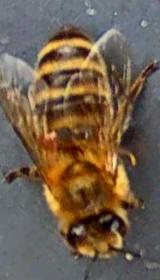varroa_mite: (30, 126, 66, 154)
